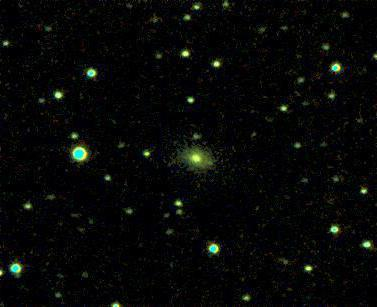star: (196, 153, 226, 183)
